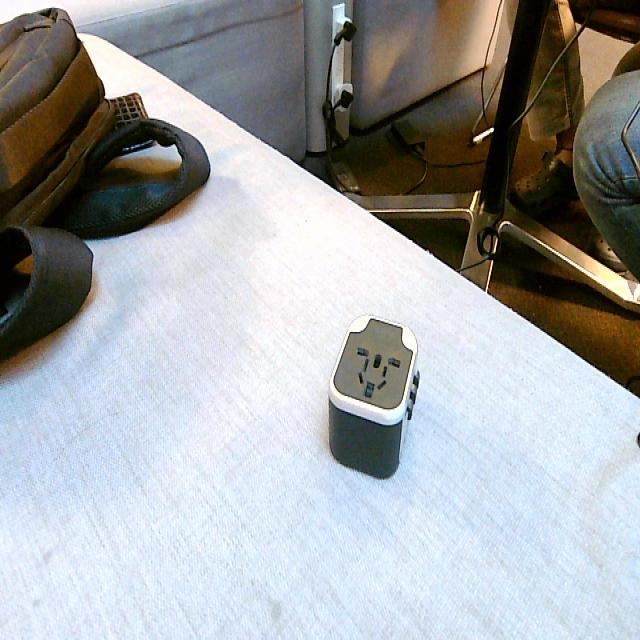adapter: (326, 312, 420, 479)
